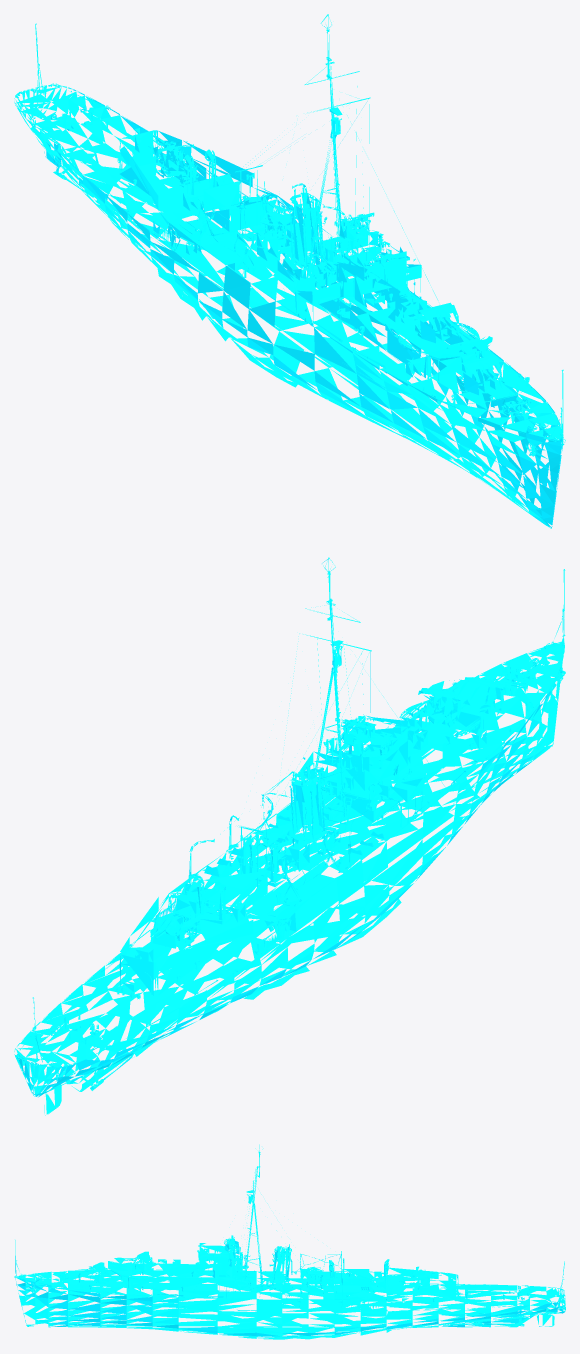
The model's file is PUSC001.glb.
3 renders of one model, top to bottom at view 1: azimuth 30°, elevation 25°; view 2: azimuth 150°, elevation 25°; view 3: azimuth 270°, elevation 25°, orthographic. The views are drawn at different scales.
Parts seen in each view (by area): view 1: hull_mid, hull_bow, hull_stern, secondary_battery, hull_body; view 2: hull_mid, hull_bow, hull_stern, secondary_battery, hull_body; view 3: hull_mid, hull_bow, hull_stern, secondary_battery.
Part boxes in pixels (x1,y1,x2,y2): hull_mid: (101,14,471,425); hull_bow: (346,318,565,528); hull_stern: (14,23,206,238); secondary_battery: (149,135,504,395); hull_body: (334,212,374,240); hull_mid: (101,557,479,1035); hull_bow: (363,569,565,855); hull_stern: (14,937,206,1115); secondary_battery: (150,672,506,948); hull_body: (335,717,375,745); hull_mid: (151,1144,446,1339); hull_bow: (14,1240,185,1331); hull_stern: (438,1261,565,1327); secondary_battery: (78,1251,441,1289).
Bounding box in the file's own units: 0.7867 × 2.23 × 6.09.
